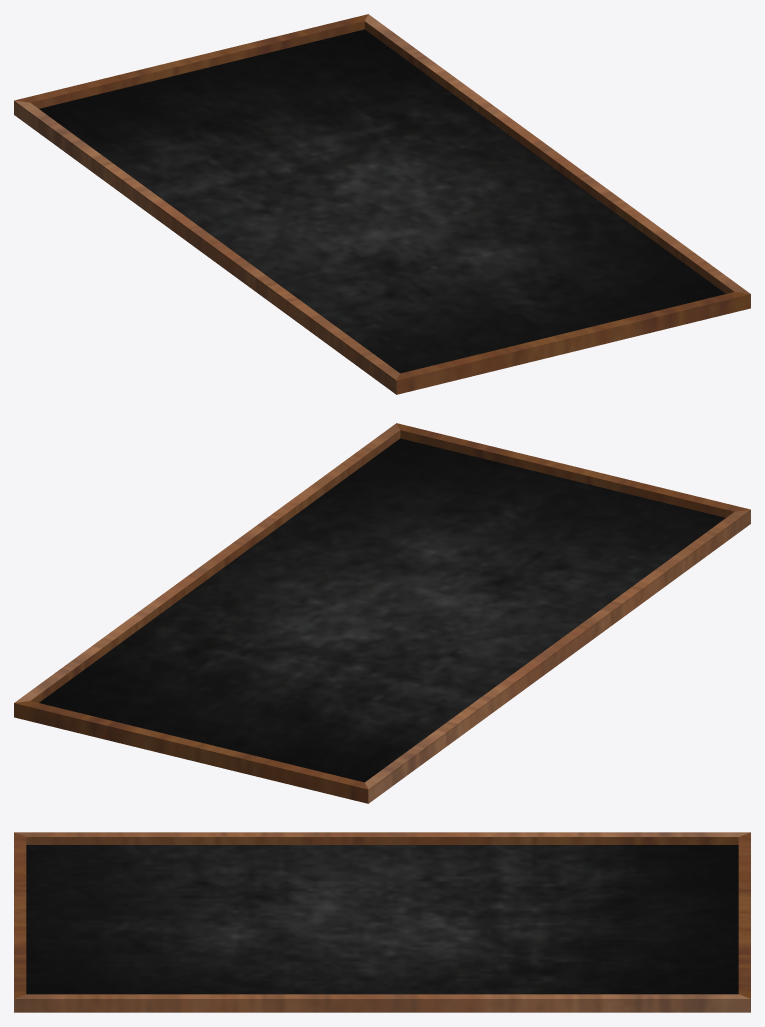
Rendered from Board.fbx.
3 renders of one model, top to bottom at view 1: azimuth 30°, elevation 25°; view 2: azimuth 150°, elevation 25°; view 3: azimuth 270°, elevation 25°, orthographic. The views are drawn at different scales.
Parts seen in each view (by area): view 1: Cube; view 2: Cube; view 3: Cube.
Part boxes in pixels (box(x1,y1,x2,y2)): Cube: box(14, 14, 750, 394); Cube: box(14, 423, 750, 803); Cube: box(14, 832, 750, 1012).
Size of the model in its own units: 1.29 by 0.05 by 2.42.
Materials: 2 (2 with a texture image).
